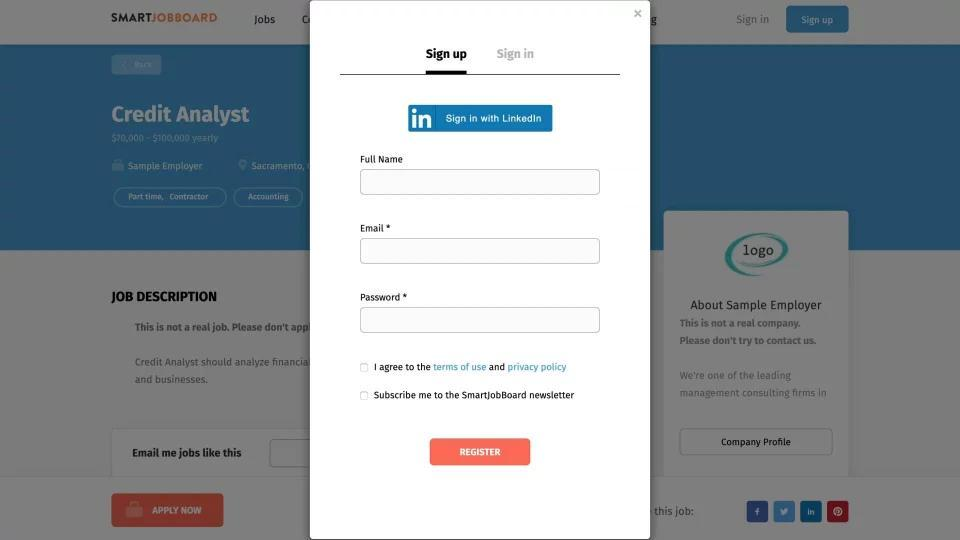button: (409, 105, 554, 134), (432, 439, 531, 466)
checkbox: (359, 364, 372, 374), (360, 391, 370, 403)
input: (360, 169, 601, 196), (361, 239, 602, 266), (361, 310, 601, 336)
label: (372, 359, 567, 375), (371, 392, 579, 404), (355, 291, 411, 303), (354, 223, 393, 236), (358, 155, 404, 165)
